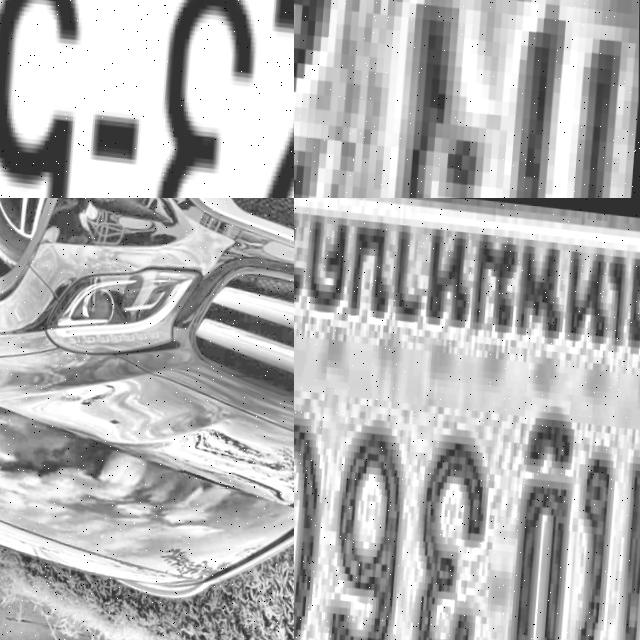license-plate: (294, 198, 640, 640), (294, 0, 640, 198), (0, 0, 294, 198)
